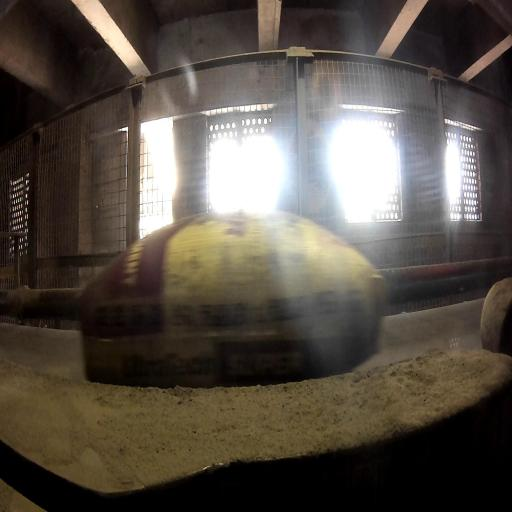c-belt-sack-count: (81, 211, 387, 387)
